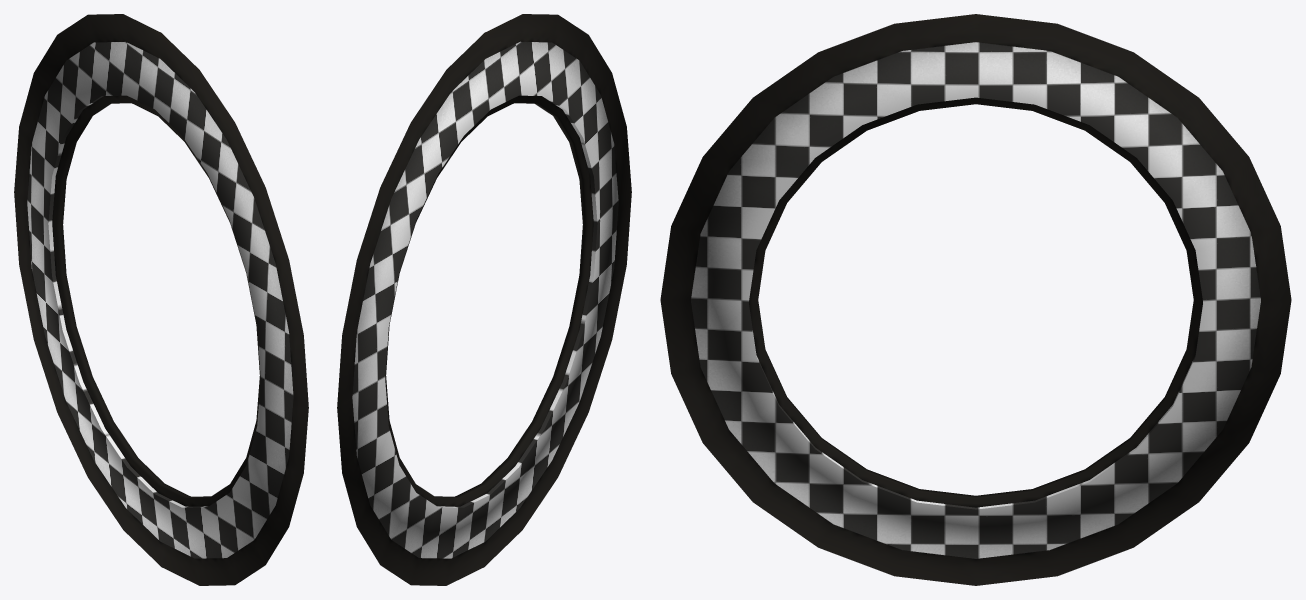
Rendered from CerclePassage_Noir.FBX.
3 views of the same model, side by side, from view 1: azimuth 30°, elevation 25°; view 2: azimuth 150°, elevation 25°; view 3: azimuth 270°, elevation 25° (orthographic). The views are drawn at different scales.
Visible parts, largest first — view 1: CerclePassage_Noir; view 2: CerclePassage_Noir; view 3: CerclePassage_Noir.
Boxes of the visible parts, x1,y1,x2,y2 form: CerclePassage_Noir: (14,14,308,585); CerclePassage_Noir: (337,14,631,585); CerclePassage_Noir: (660,14,1291,585).
Size of the model in its own units: 2 by 74 by 74.
